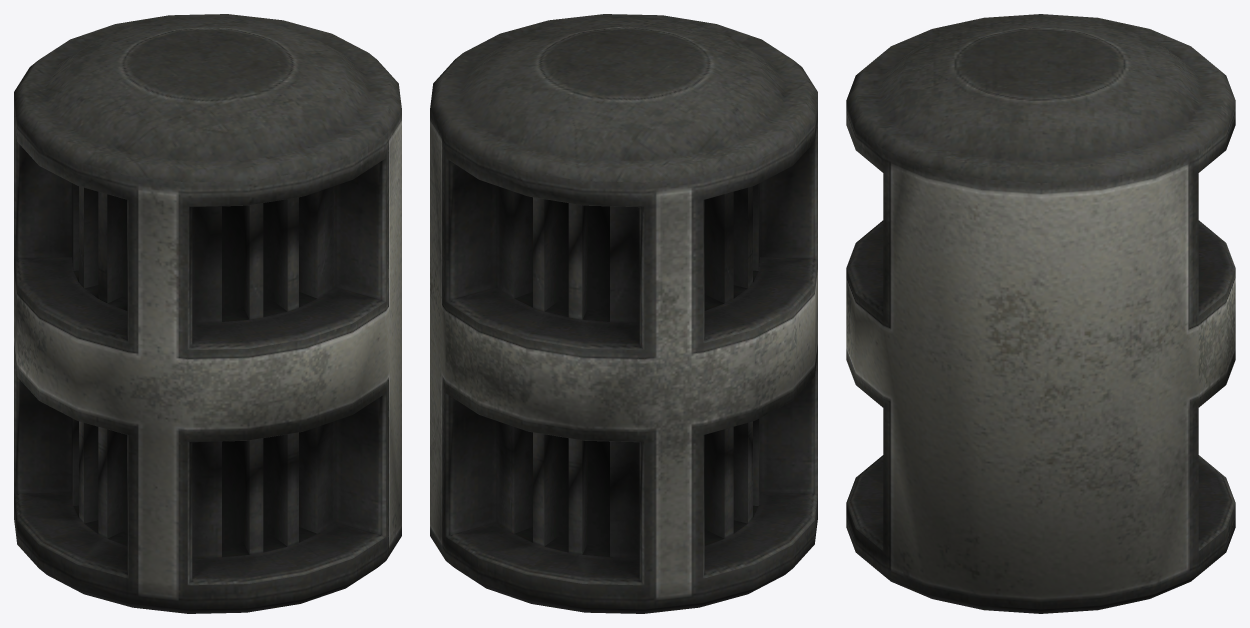
File: 02_05_computer_scan_storage_cylinder.dae
The picture shows the model from 3 angles, left to right: view 1: azimuth 30°, elevation 25°; view 2: azimuth 150°, elevation 25°; view 3: azimuth 270°, elevation 25°; orthographic projection.
Visible parts, largest first — view 1: polySurface75; view 2: polySurface75; view 3: polySurface75.
Boxes of the visible parts, x1,y1,x2,y2 form: polySurface75: (14,14,401,613); polySurface75: (430,14,817,613); polySurface75: (846,14,1235,613).
Bounding box in the file's own units: 0.6776 × 0.9685 × 0.6776.
